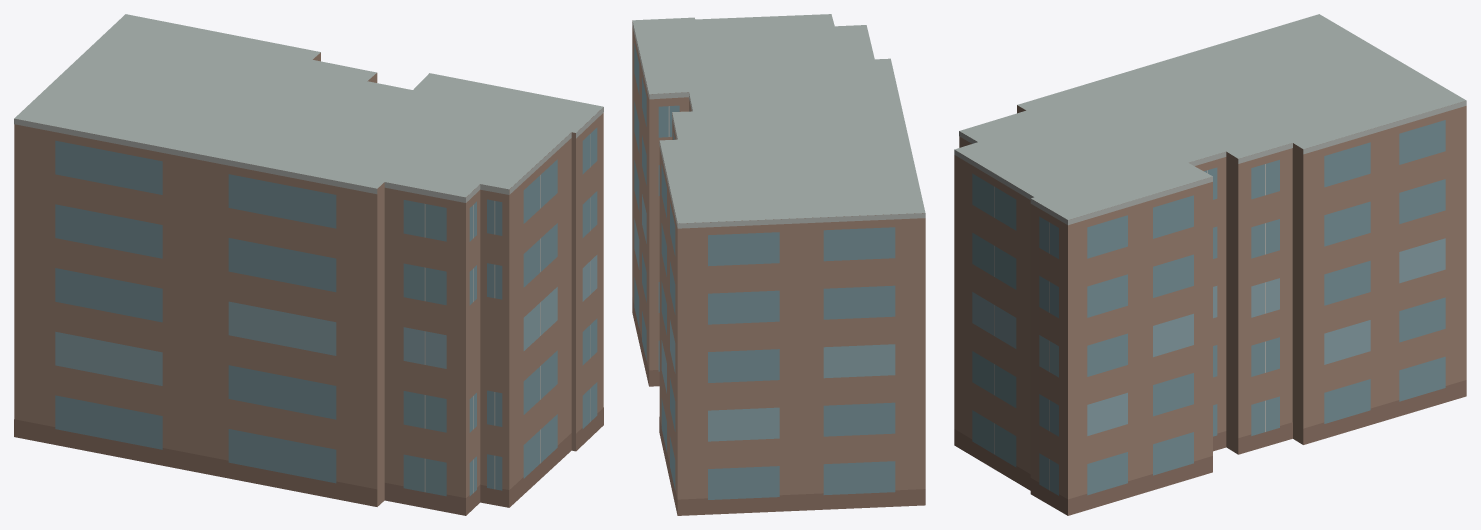
The model's file is survey-upis-32674740.glb.
3 renders of one model, left to right at view 1: azimuth 30°, elevation 25°; view 2: azimuth 150°, elevation 25°; view 3: azimuth 270°, elevation 25°, orthographic. The views are drawn at different scales.
Parts seen in each view (by area): view 1: survey-upis-32674740.tmp; view 2: survey-upis-32674740.tmp; view 3: survey-upis-32674740.tmp.
Part boxes in pixels (x1,y1,x2,y2): survey-upis-32674740.tmp: (14, 14, 603, 515); survey-upis-32674740.tmp: (632, 14, 925, 515); survey-upis-32674740.tmp: (954, 14, 1466, 515).
Bounding box in the file's own units: 20.62 × 13.8 × 21.66.
